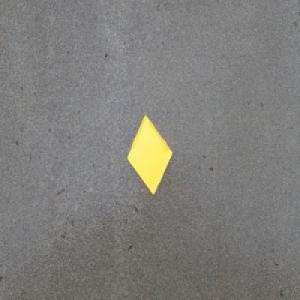PlasticPart: (126, 113, 173, 196)
